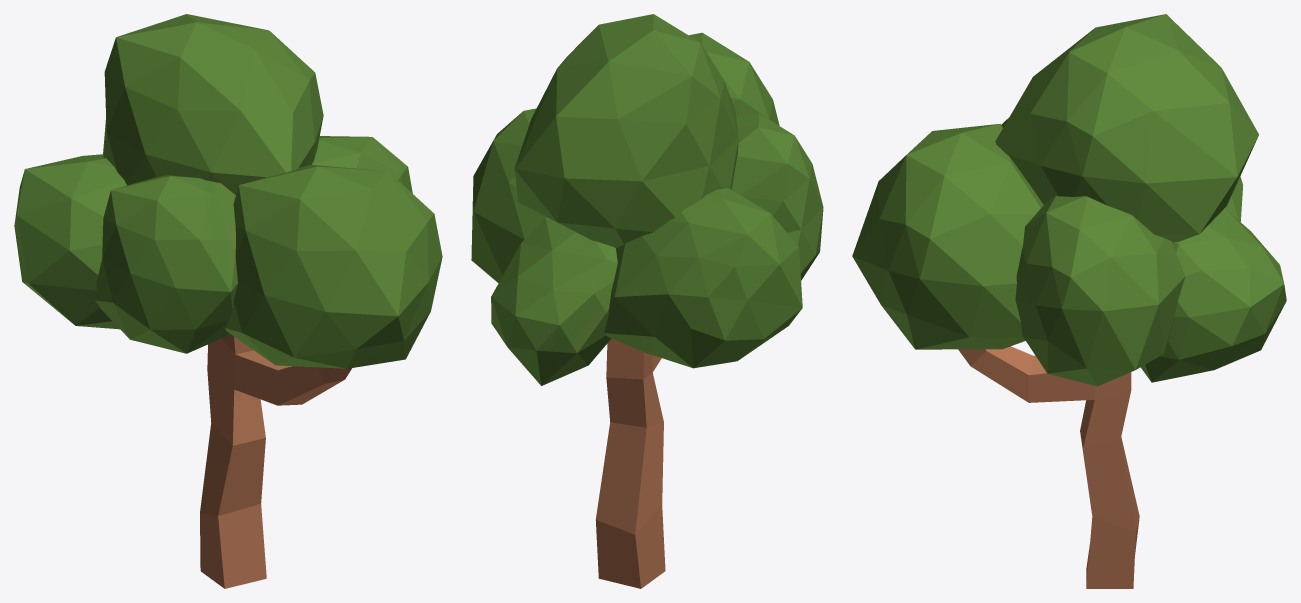
File: tree-6.glb
3 views of the same model, side by side, from view 1: azimuth 30°, elevation 25°; view 2: azimuth 150°, elevation 25°; view 3: azimuth 270°, elevation 25° (orthographic). The views are drawn at different scales.
Parts seen in each view (by area): view 1: Tree 6_0; view 2: Tree 6_0; view 3: Tree 6_0.
Part boxes in pixels (box(x1,y1,x2,y2)): Tree 6_0: box(14, 14, 442, 588); Tree 6_0: box(471, 14, 823, 588); Tree 6_0: box(852, 14, 1286, 588).
Bounding box in the file's own units: 16.6 × 25.19 × 18.43.
Materials: 1 (1 with a texture image).
